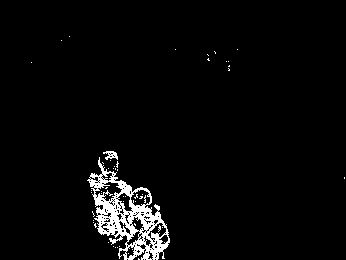person: (88, 149, 133, 260), (118, 185, 171, 258)
